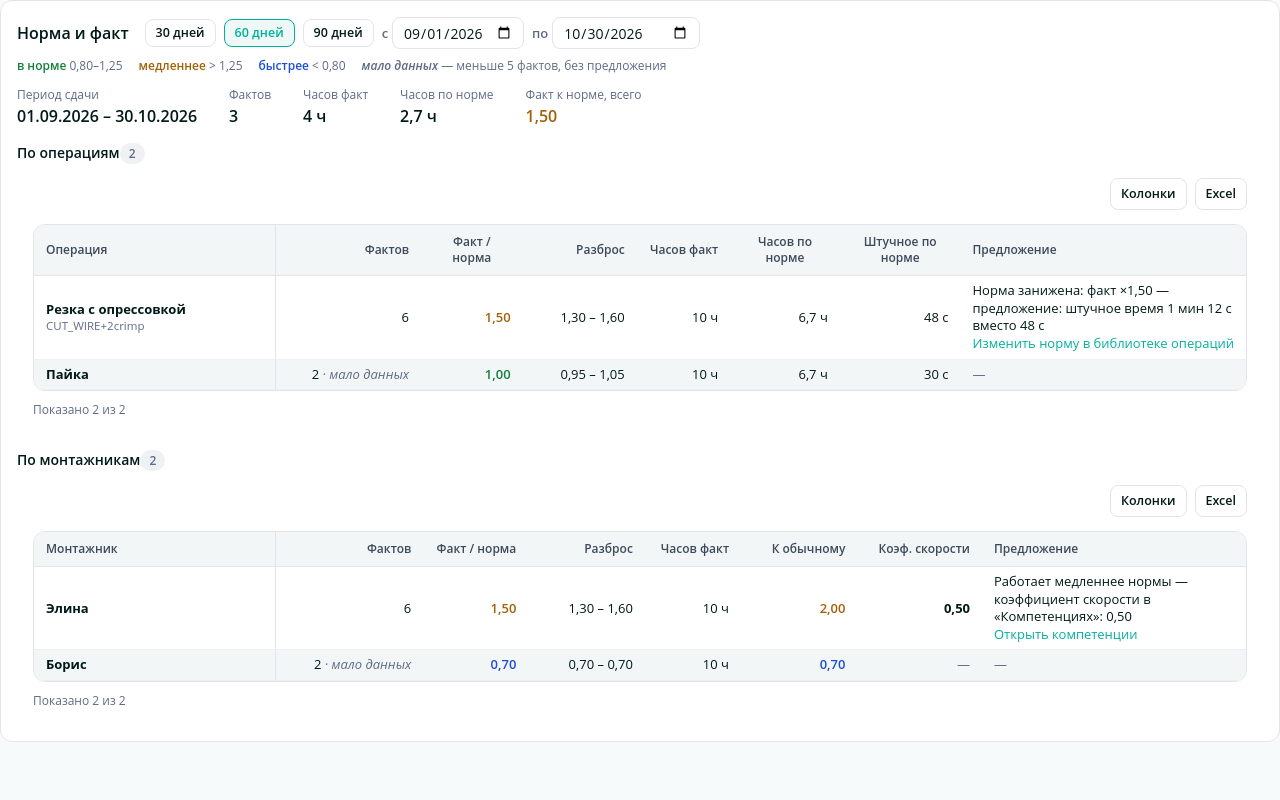
Scenario: opens the individual facts of a template in a window
This screenshot has width=1280, height=800.
Click the row named "Факты: Резка с опрессовкой": x=640, y=318 [34,276,1246,359]
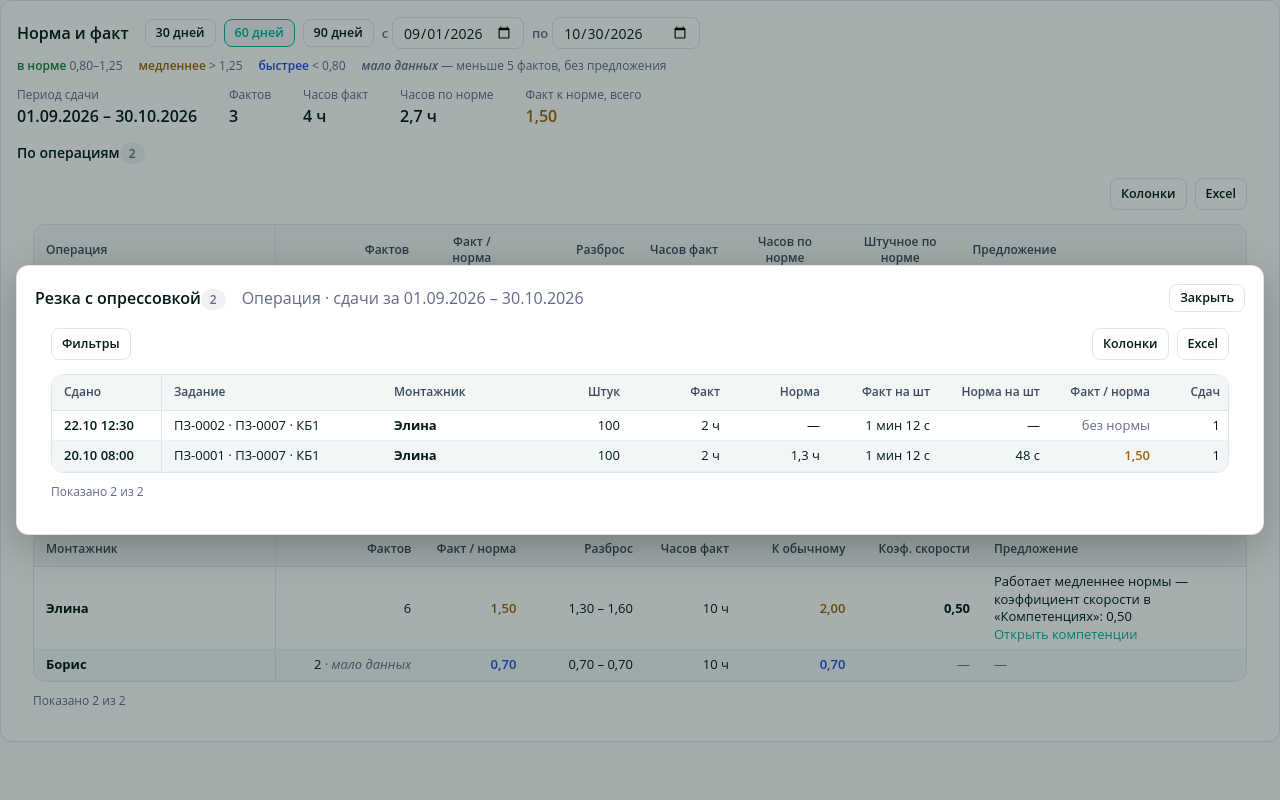
Result: the row that starts with "ПЗ-0002" is shown at [174,416,225,434]
Result: the row that starts with "ПЗ-0002" shows "без нормы" at [1082,416,1150,434]
Result: the row that starts with "ПЗ-0001" shows "1 мин 12 с" at [865,446,930,464]
Click the button "Закрыть": x=1207, y=298 [1169,284,1245,312]
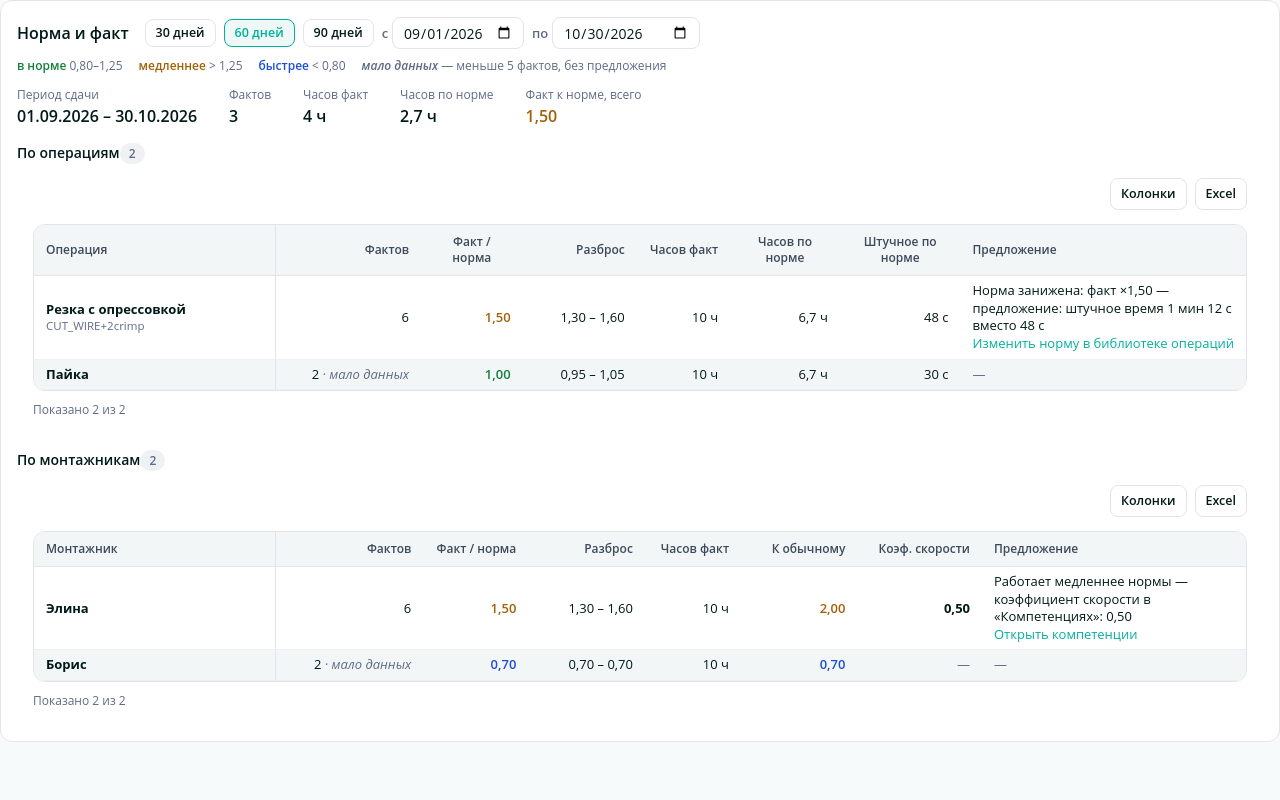
Result: the dialog is gone
